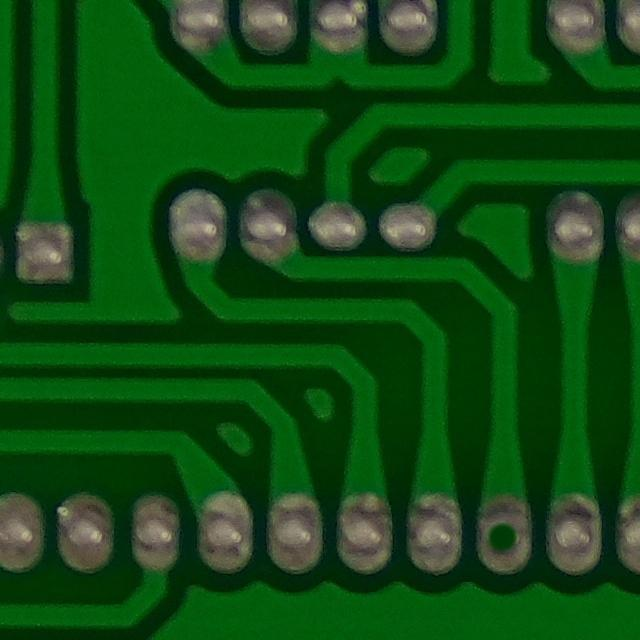missing_hole: (459, 494, 549, 584)
